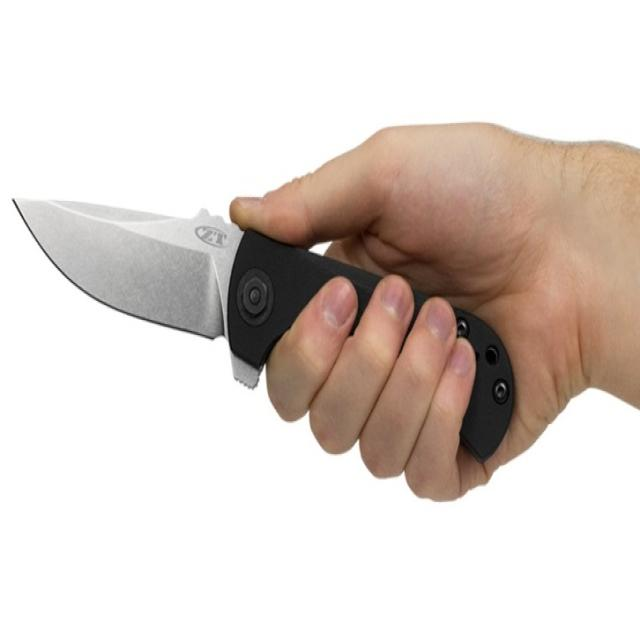knife: (8, 184, 518, 450)
